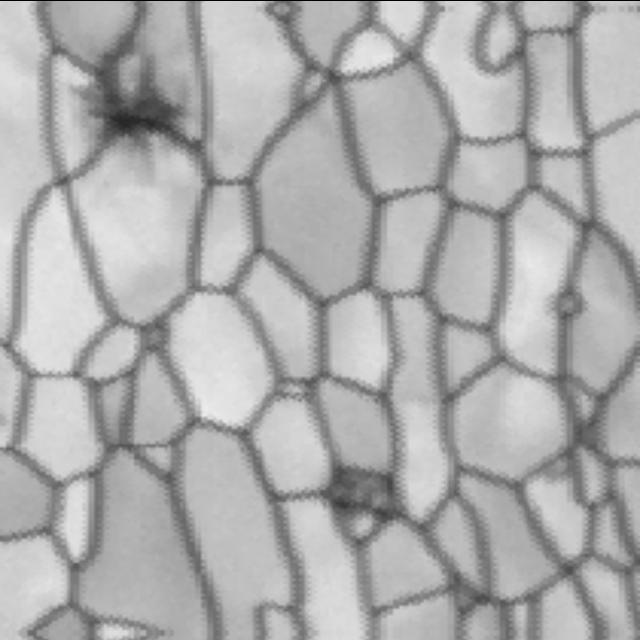good_void: (49, 21, 225, 178), (308, 451, 401, 535)
